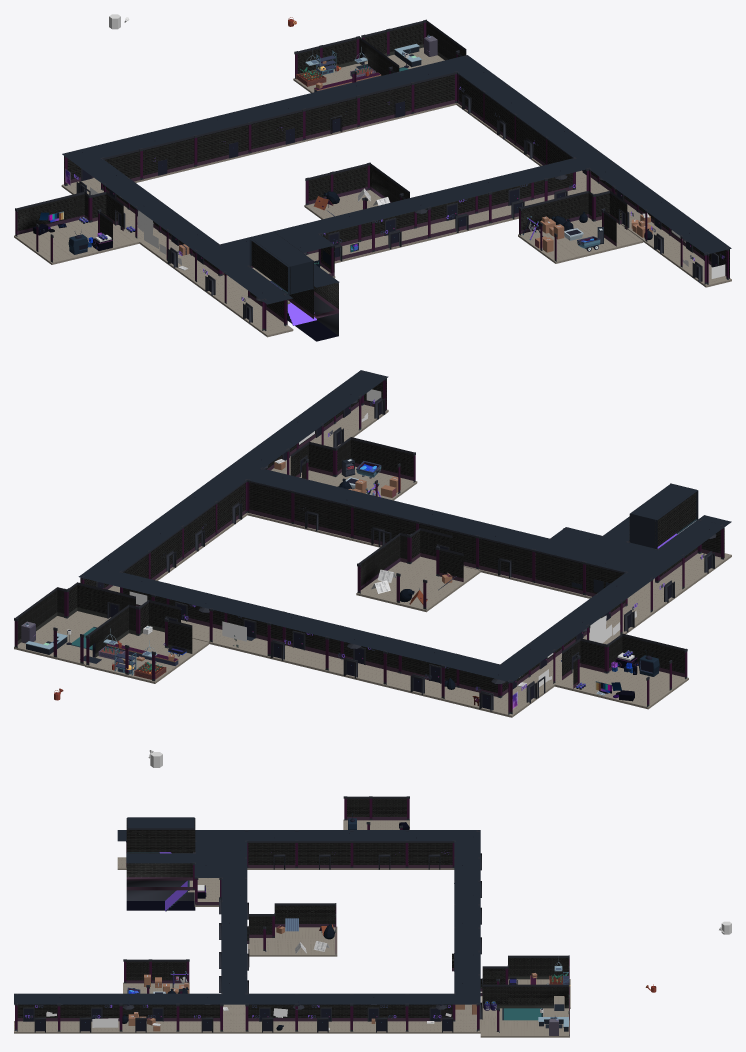
Rendered from INT_ApartmintHallway.fbx.
The picture shows the model from 3 angles, top to bottom: view 1: azimuth 30°, elevation 25°; view 2: azimuth 150°, elevation 25°; view 3: azimuth 270°, elevation 25°; orthographic projection. The views are drawn at different scales.
Parts seen in each view (by area): view 1: Cube.148, Roof.006, Cube.129, wall, Cube.147, Cube.307, Roof.007, Cube.143, Cube.145, Cube.134, Cube.142; view 2: Roof.006, Cube.148, Cube.129, wall, Roof.007, Cube.143, Cube.147, Cube.307, Cube.142, Cube.145, Cube.303, Cube.130 (+1 smaller); view 3: Cube.148, Roof.006, Cube.129, wall, Roof.007, Cube.143, Cube.142, Cube.303, Cube.147, Cube.307, Plane.138, Cube.145.
Part boxes in pixels (bbox=[...]): Cube.148: bbox=[64, 56, 729, 341]; Roof.006: bbox=[62, 55, 731, 304]; Cube.129: bbox=[61, 103, 731, 337]; wall: bbox=[294, 19, 466, 82]; Cube.147: bbox=[15, 187, 123, 262]; Cube.307: bbox=[518, 190, 627, 261]; Roof.007: bbox=[235, 233, 339, 294]; Cube.143: bbox=[305, 162, 409, 209]; Cube.145: bbox=[14, 220, 139, 264]; Cube.134: bbox=[518, 217, 643, 263]; Cube.142: bbox=[304, 190, 381, 219]; Roof.006: bbox=[78, 370, 731, 682]; Cube.148: bbox=[80, 371, 724, 714]; Cube.129: bbox=[108, 404, 731, 717]; wall: bbox=[14, 582, 192, 681]; Roof.007: bbox=[551, 483, 698, 560]; Cube.143: bbox=[357, 528, 463, 609]; Cube.147: bbox=[537, 633, 687, 706]; Cube.307: bbox=[290, 437, 415, 496]; Cube.142: bbox=[356, 556, 480, 612]; Cube.145: bbox=[554, 666, 688, 709]; Cube.303: bbox=[14, 611, 109, 666]; Cube.130: bbox=[85, 629, 209, 683]; Cube.148: bbox=[14, 818, 482, 1031]; Roof.006: bbox=[14, 830, 480, 1004]; Cube.129: bbox=[14, 857, 480, 1033]; wall: bbox=[482, 955, 569, 1035]; Roof.007: bbox=[126, 817, 221, 877]; Cube.143: bbox=[248, 903, 336, 966]; Cube.142: bbox=[248, 926, 337, 956]; Cube.303: bbox=[480, 1007, 569, 1037]; Cube.147: bbox=[343, 796, 409, 829]; Cube.307: bbox=[123, 959, 189, 993]; Plane.138: bbox=[502, 1008, 542, 1020]; Cube.145: bbox=[343, 819, 409, 829].
Size of the model in its own units: 9831 by 1519 by 13776.
